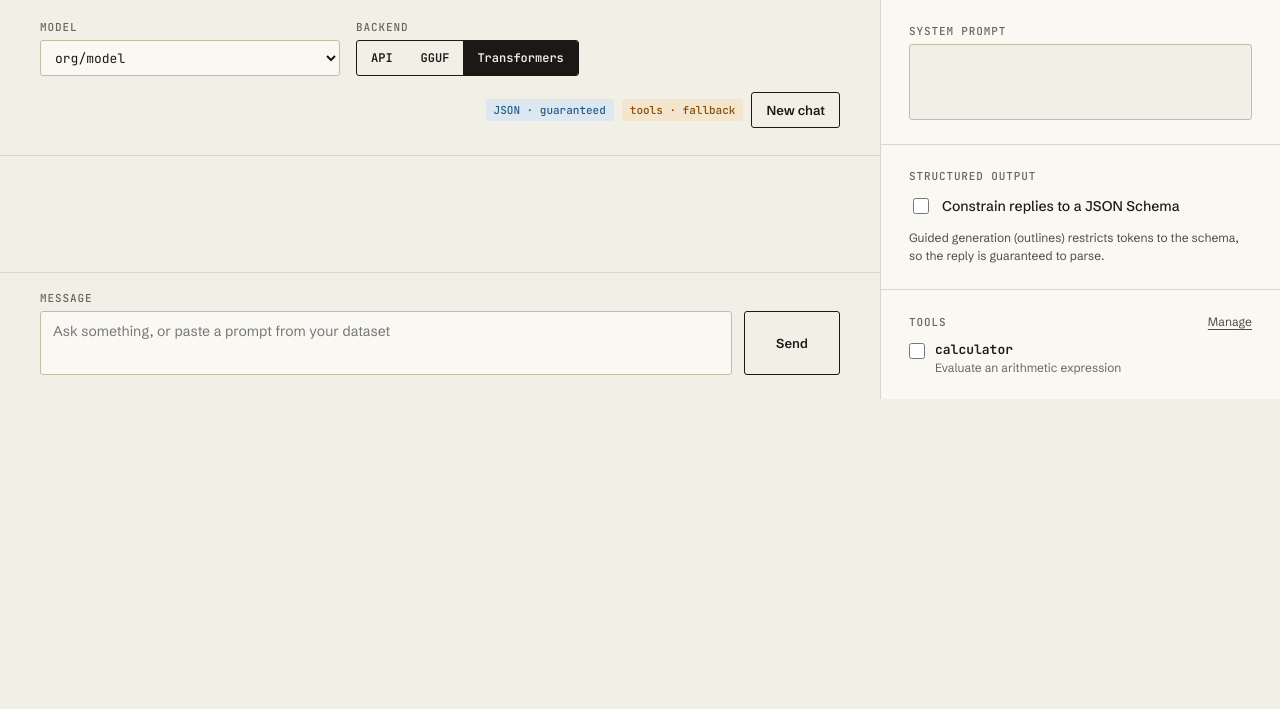
Test: PlaygroundPage › shows how full the context window is and what the model was given
Expected: the text "calculator" is shown, [935,341,1013,358]
Type "What is 2 + 3?" into the text box labelled "Message". click: (386, 343)
box: [40,311,732,375]
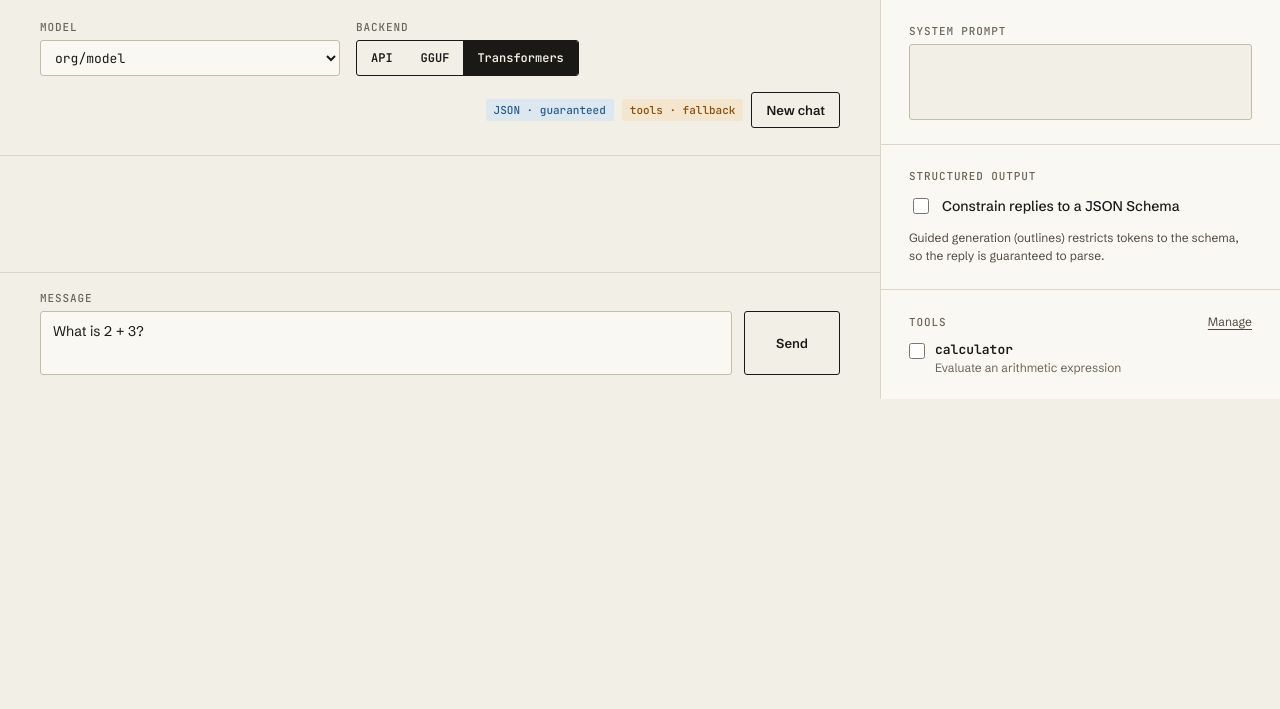
Click the button "Send". click: (792, 343)
box: [744,311,840,375]
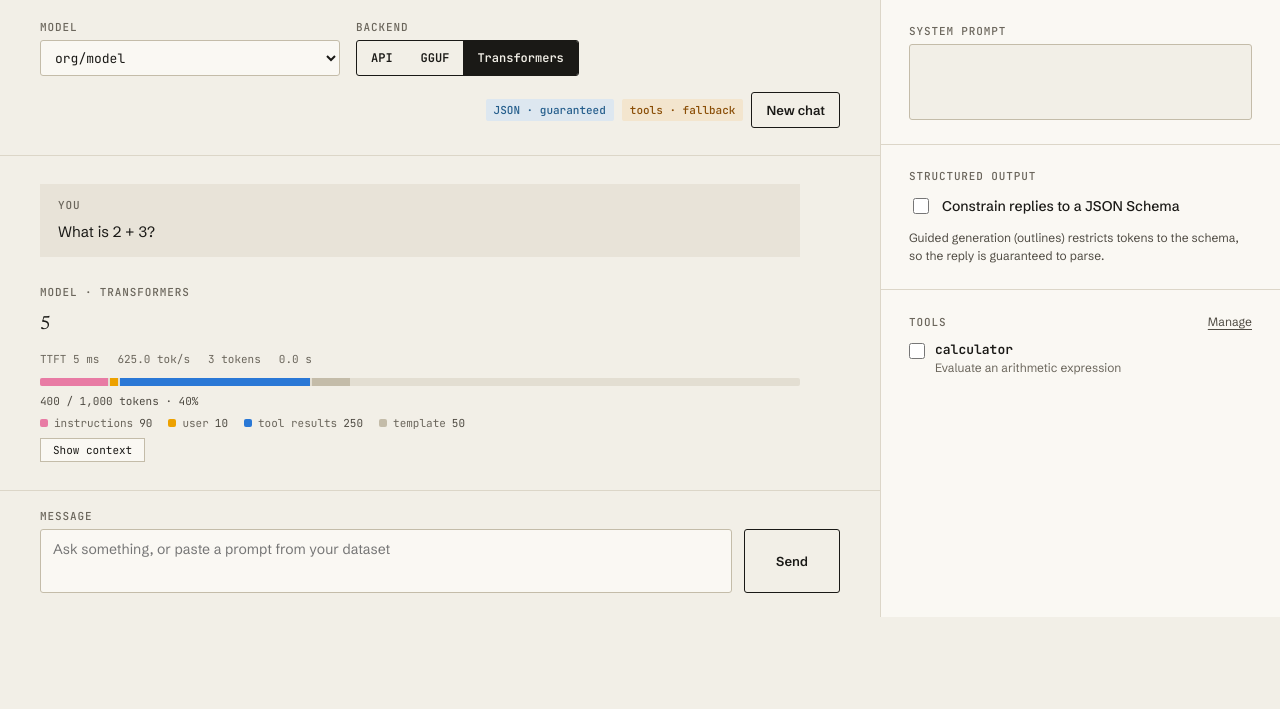
Result: the text "400 / 1,000 tokens · 40%" is shown at [40,394,198,408]
Result: the text "tool results" is shown at [258,416,337,430]
Result: the text "250" is shown at [343,416,363,430]
Click the button "Show context". click: (93, 450)
box: [40,438,145,462]
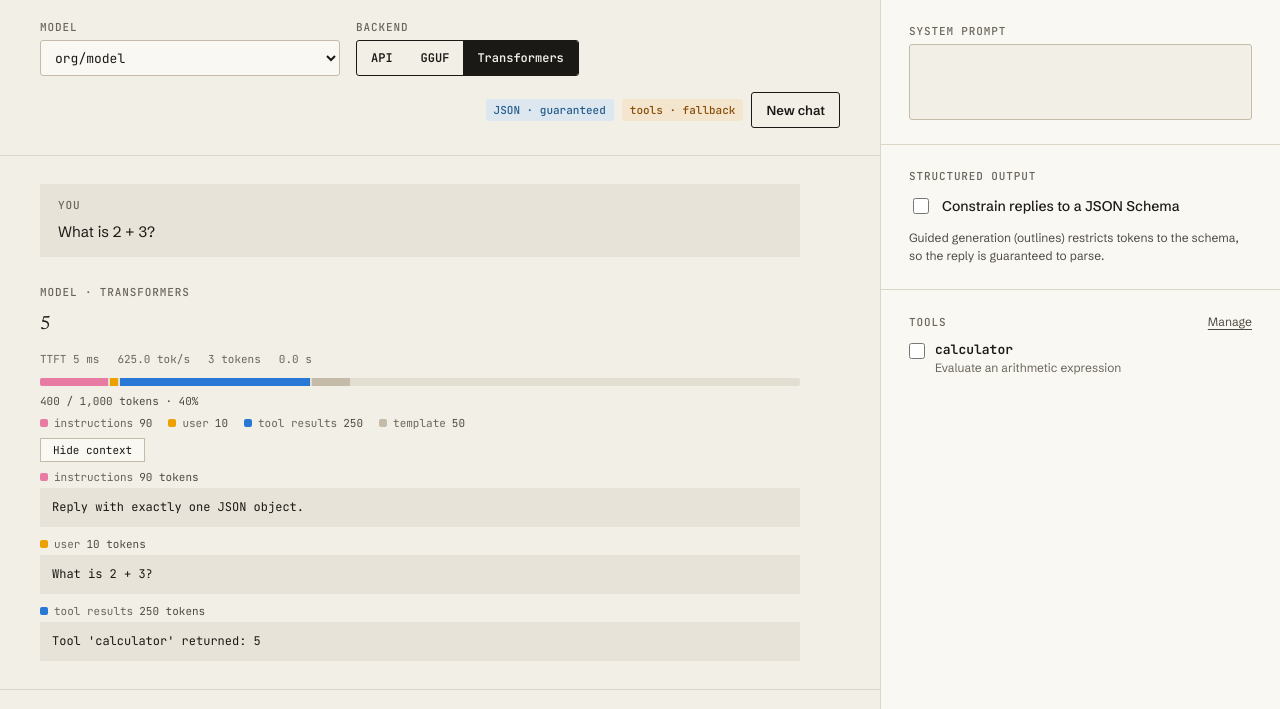
Result: the text "Reply with exactly one JSON object." is shown at [40,488,800,527]
